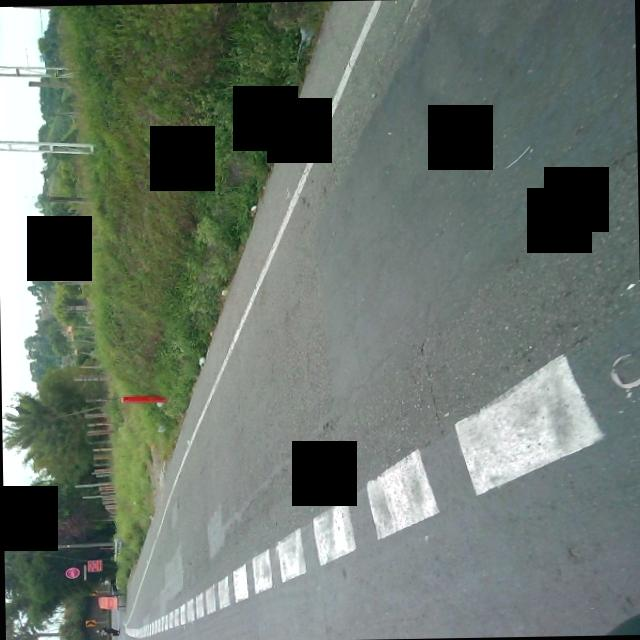DITCH: (46, 0, 640, 640), (108, 0, 640, 639)
